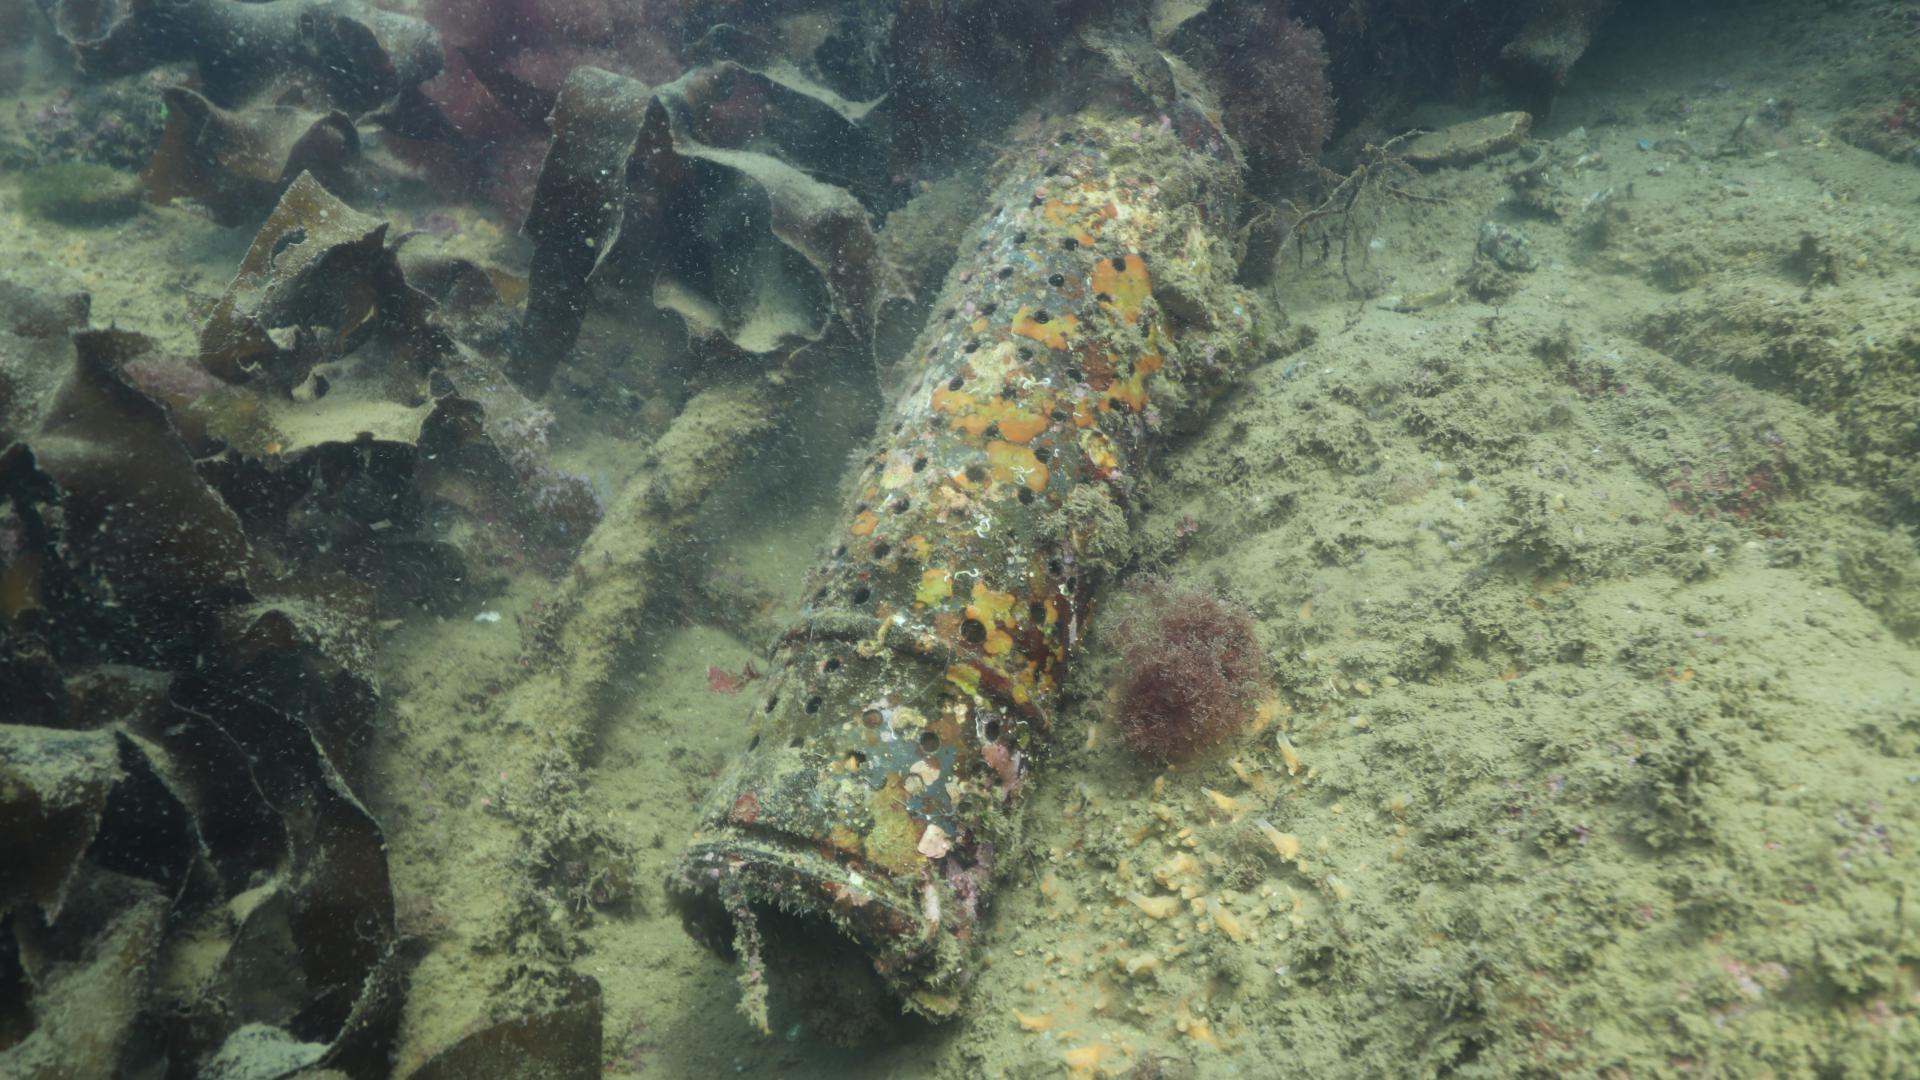eel fish trap: (670, 105, 1249, 1029)
